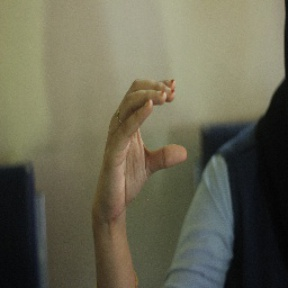C: (101, 74, 196, 185)
